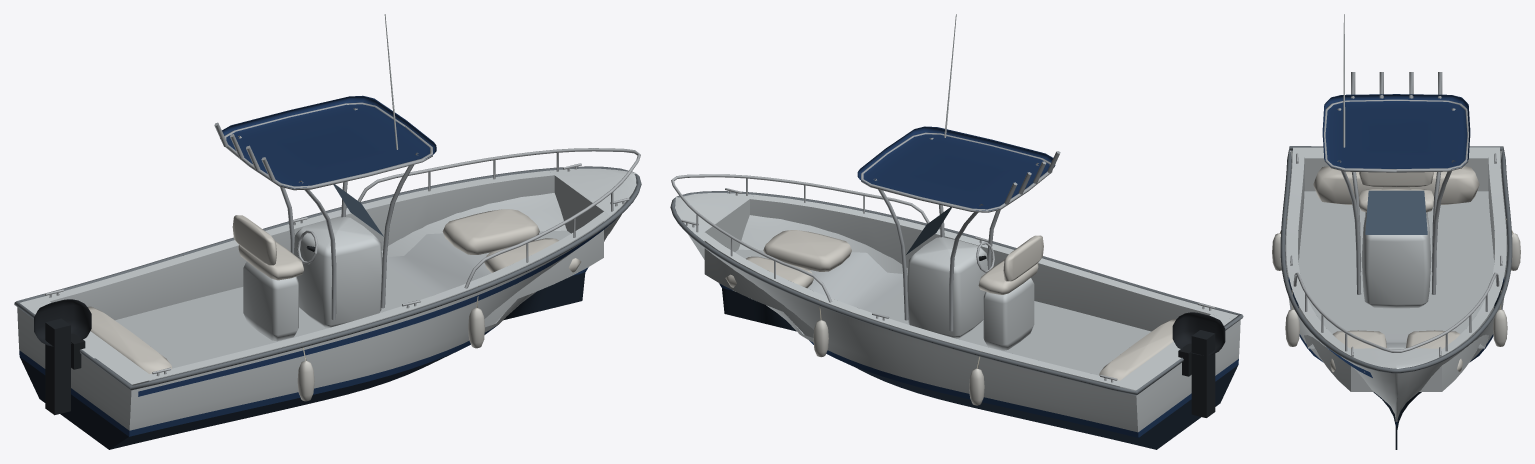
Rendered from center-console.glb.
The picture shows the model from 3 angles, left to right: view 1: azimuth 30°, elevation 25°; view 2: azimuth 150°, elevation 25°; view 3: azimuth 270°, elevation 25°; orthographic projection. The views are drawn at different scales.
Visible parts, largest first — view 1: console-lod0; view 2: console-lod0; view 3: console-lod0.
Part boxes in pixels (bbox=[...]): console-lod0: bbox=[14, 14, 641, 449]; console-lod0: bbox=[670, 14, 1243, 449]; console-lod0: bbox=[1272, 14, 1520, 449].
Size of what is drawn, in the model's own units: 7.38 by 4.25 by 2.87.
